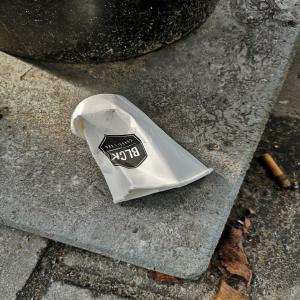Cup: (65, 91, 218, 207)
